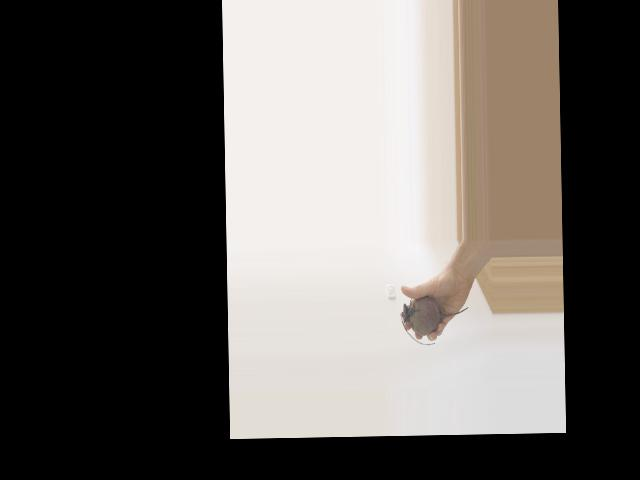beet: (400, 297, 469, 346)
